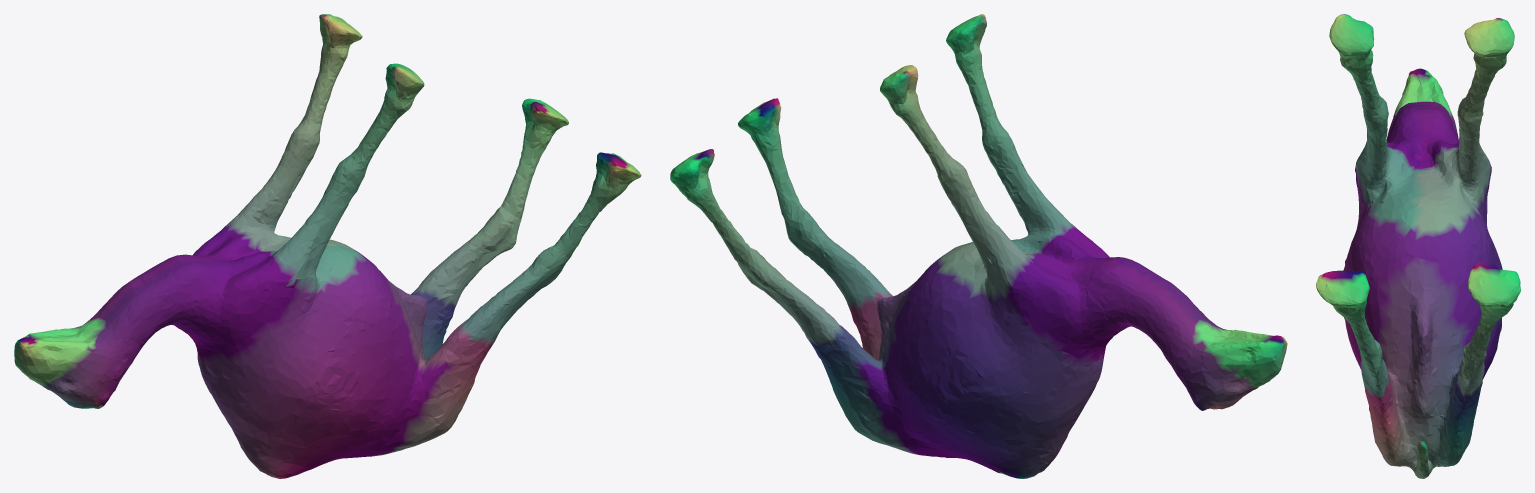
The model's file is camel-12.off.obj.
3 views of the same model, side by side, from view 1: azimuth 30°, elevation 25°; view 2: azimuth 150°, elevation 25°; view 3: azimuth 270°, elevation 25° (orthographic). The views are drawn at different scales.
Bounding box in the file's own units: 1.67 × 1.15 × 0.4902.
